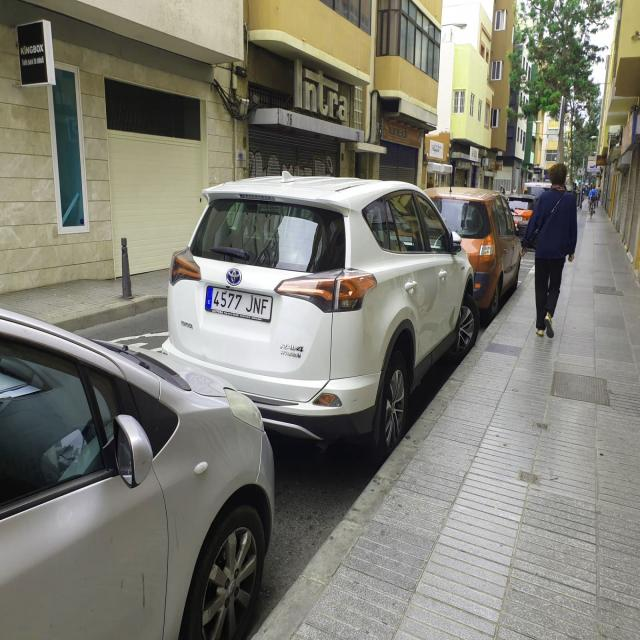License-Plate: (205, 282, 273, 326)
